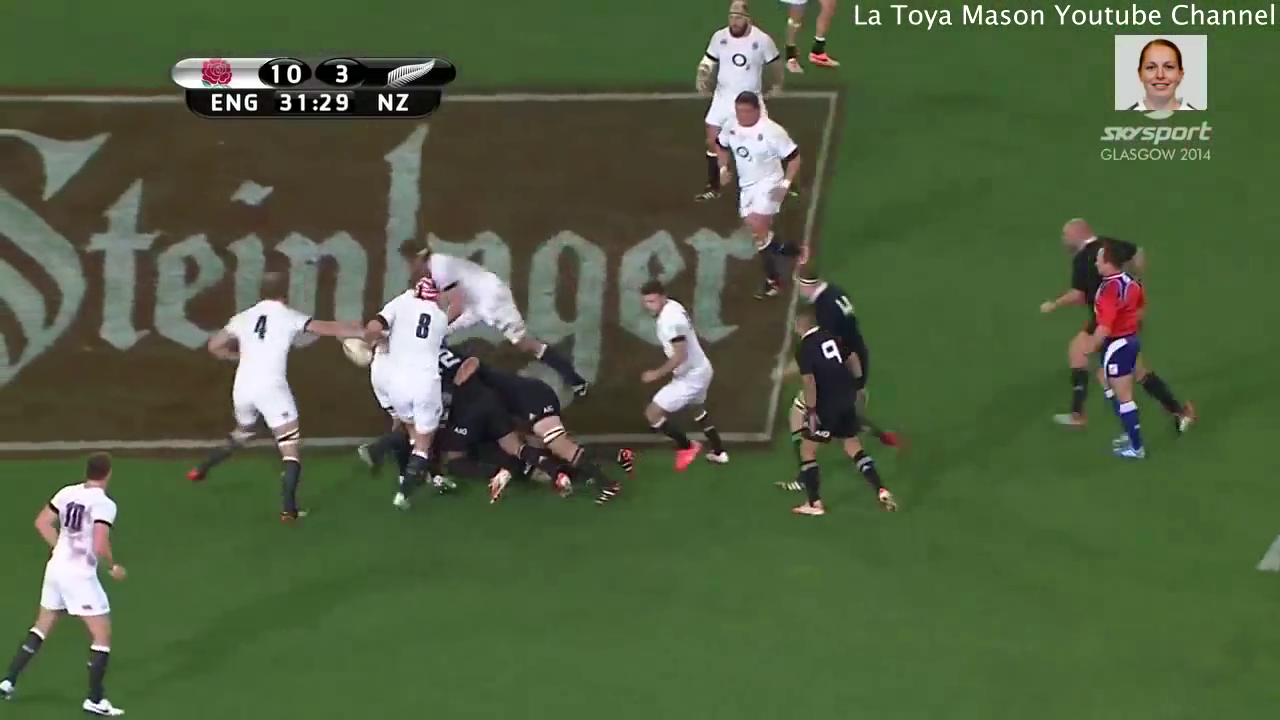ball: (335, 327, 382, 379)
player: (179, 272, 352, 532), (1030, 208, 1207, 438), (1, 446, 137, 720), (396, 234, 598, 401), (773, 306, 899, 528), (438, 361, 611, 498), (792, 272, 913, 467), (685, 1, 794, 211), (631, 276, 740, 478), (354, 281, 449, 512), (713, 92, 811, 304), (1083, 241, 1163, 472)
ruck: (353, 284, 616, 513)
